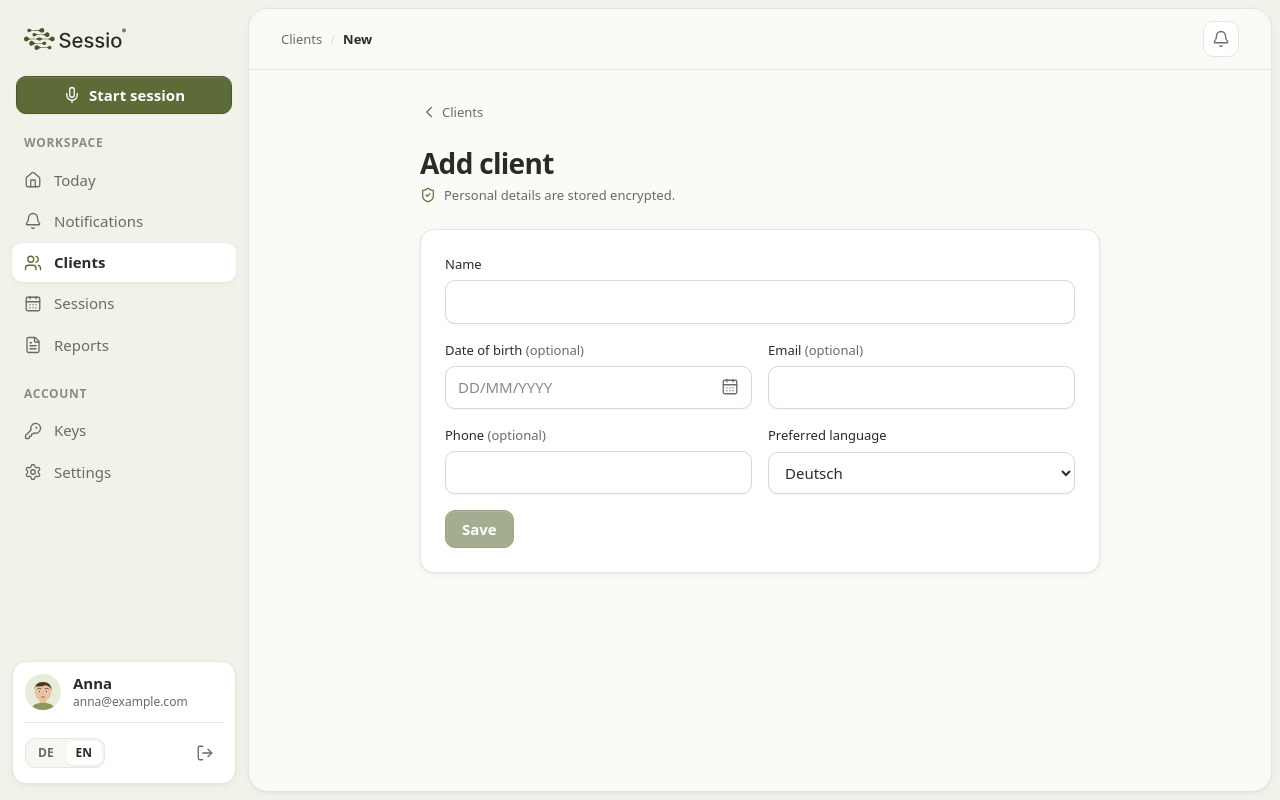
Test: clients › adds a client and goes on to consent
Type " Anna Weber " into the field labelled "Name" at (760, 302), box top-left (445, 280), bottom-right (1075, 324)
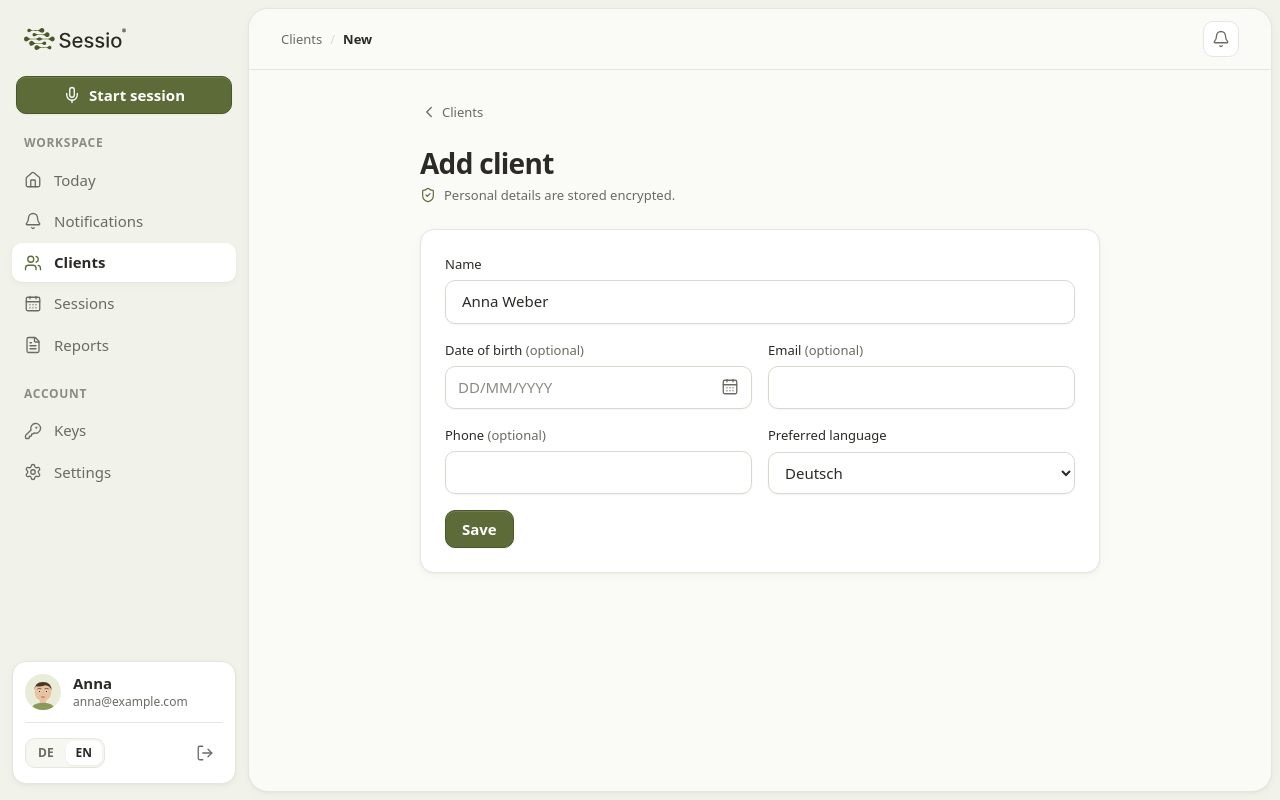
Click the button "Save" at (479, 530), box top-left (445, 510), bottom-right (514, 548)
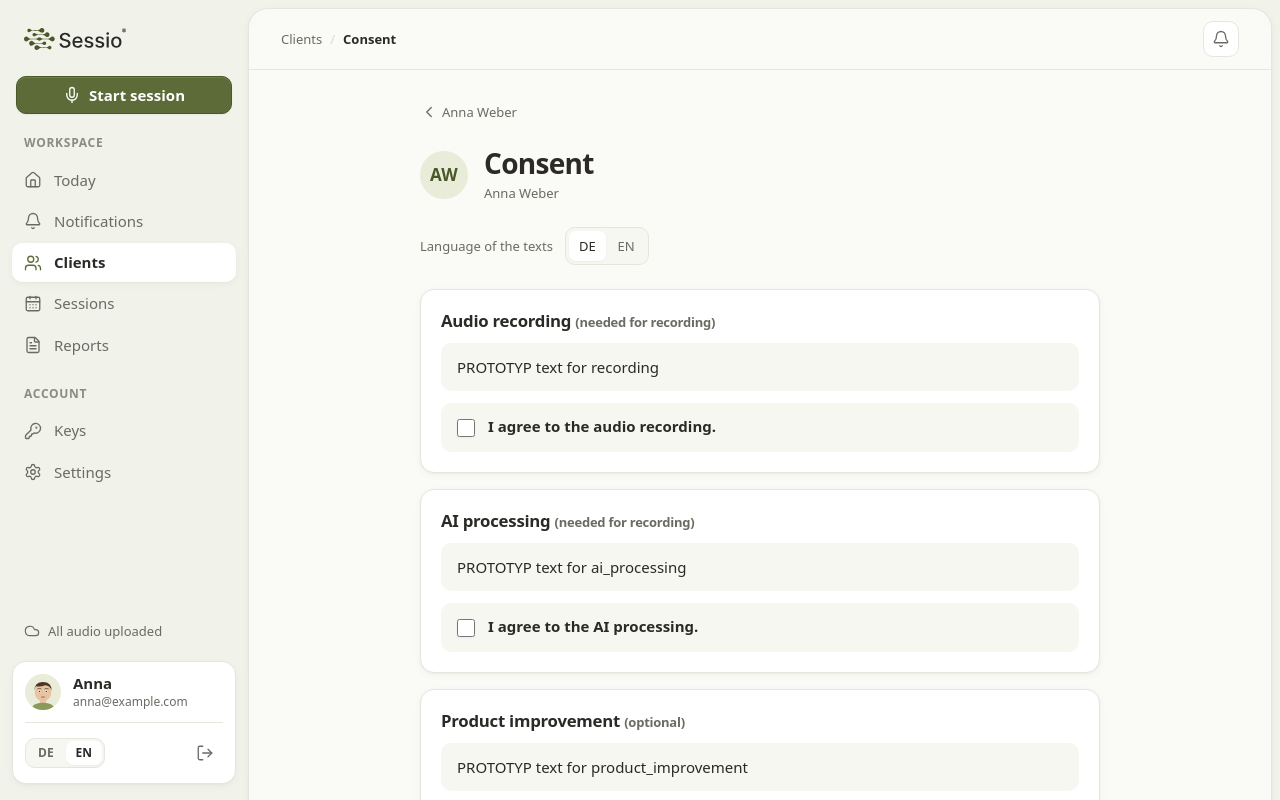
expect the heading "Consent" is shown: met, box top-left (484, 146), bottom-right (594, 181)
